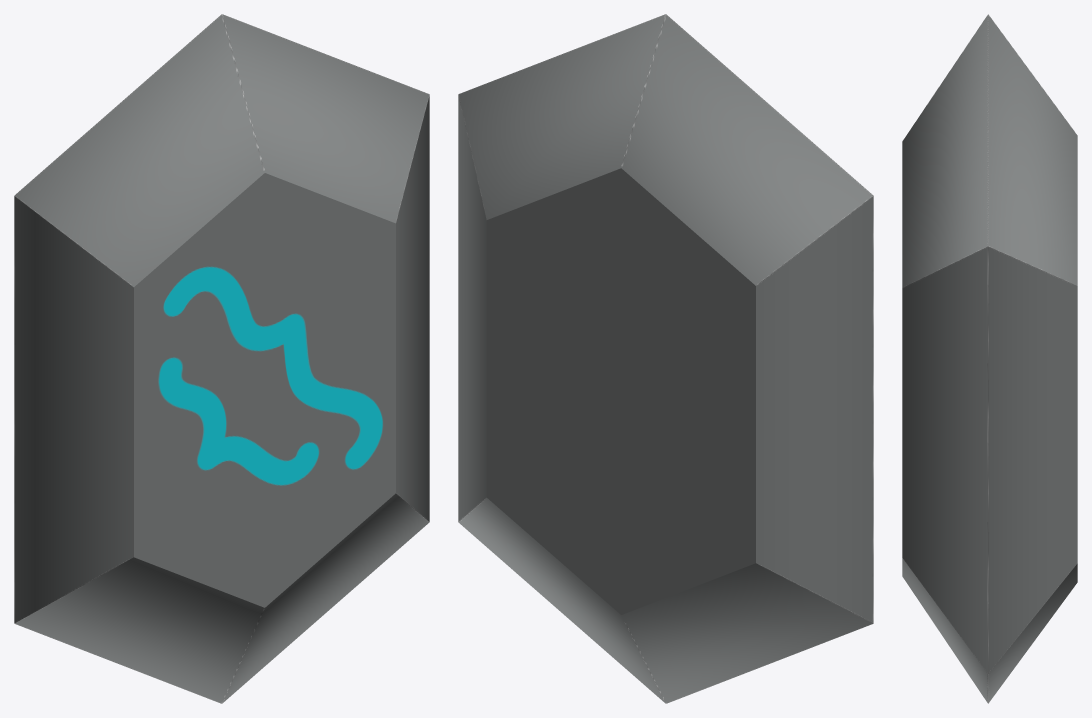
File: pattern_b4.fbx
3 views of the same model, side by side, from view 1: azimuth 30°, elevation 25°; view 2: azimuth 150°, elevation 25°; view 3: azimuth 270°, elevation 25° (orthographic).
Visible parts, largest first — view 1: pattern_b4_GEO; view 2: pattern_b4_GEO; view 3: pattern_b4_GEO.
Part boxes in pixels (x1,y1,x2,y2): pattern_b4_GEO: [14, 14, 429, 703]; pattern_b4_GEO: [458, 14, 873, 703]; pattern_b4_GEO: [902, 14, 1077, 703].
Size of the model in its own units: 1.41 by 2.24 by 0.5148.
